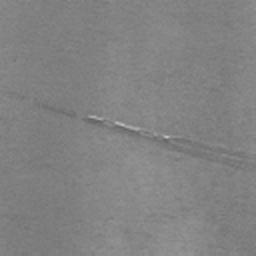Finishing roll printing: (4, 91, 256, 169)
